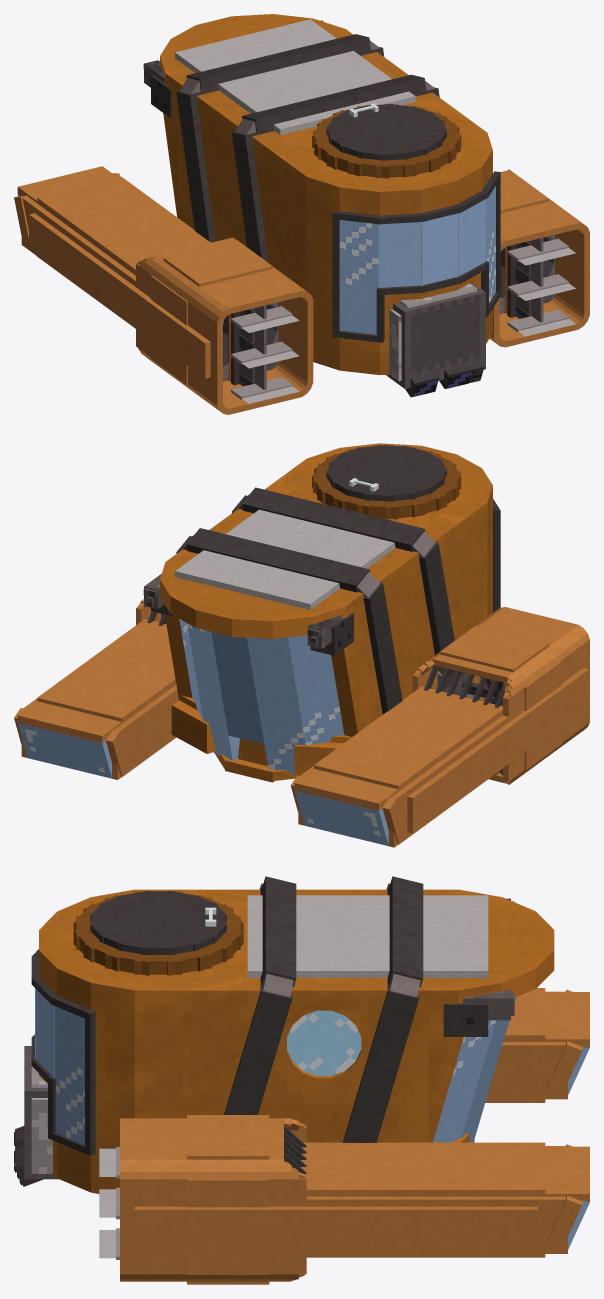
Rendered from hovercraft.gltf.
3 views of the same model, one above another, from view 1: azimuth 30°, elevation 25°; view 2: azimuth 150°, elevation 25°; view 3: azimuth 270°, elevation 25° (orthographic). The views are drawn at different scales.
Visible parts, largest first — view 1: hexadecagon (×44), cube (×28); view 2: hexadecagon (×40), cube (×23); view 3: hexadecagon (×54), cube (×19).
Boxes of the visible parts, left/top/right/bottom form: hexadecagon (×44): left=151, top=14, right=500, bottom=388; cube (×28): left=17, top=166, right=589, bottom=414; hexadecagon (×40): left=160, top=445, right=500, bottom=774; cube (×23): left=17, top=607, right=589, bottom=847; hexadecagon (×54): left=24, top=876, right=554, bottom=1193; cube (×19): left=120, top=988, right=589, bottom=1279.
Size of the model in its own units: 4.25 by 2.51 by 4.82.
1 material, 1 textured.
